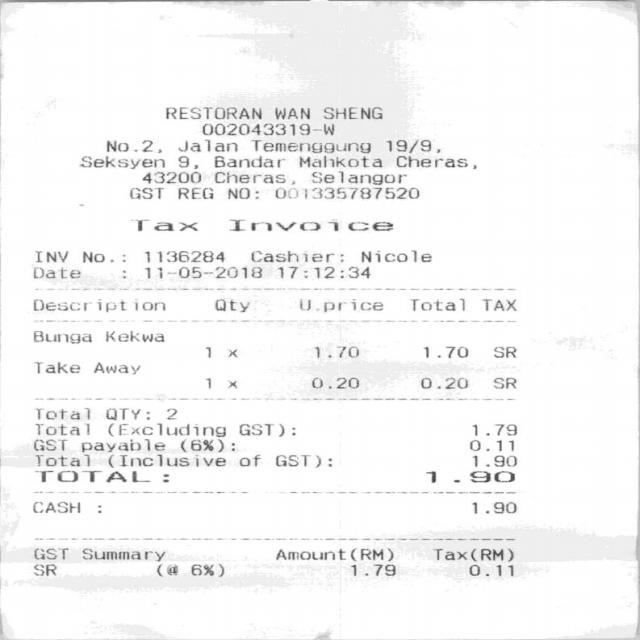text: (230, 219, 392, 231), (32, 298, 167, 312), (108, 422, 225, 437), (108, 453, 225, 468), (273, 186, 418, 198), (141, 266, 262, 280), (250, 139, 369, 153), (34, 469, 152, 483), (200, 123, 333, 135), (311, 170, 405, 185), (276, 266, 374, 279), (297, 298, 384, 312), (78, 155, 163, 169), (81, 438, 164, 452), (165, 107, 260, 119), (250, 250, 342, 262), (424, 470, 514, 482), (430, 548, 513, 561), (213, 171, 294, 184), (395, 154, 469, 168), (297, 155, 381, 167), (81, 548, 165, 560), (143, 250, 223, 262), (361, 249, 430, 262), (274, 548, 344, 560), (214, 155, 283, 167), (177, 138, 236, 152), (178, 438, 234, 452), (321, 106, 381, 119), (140, 171, 200, 184), (105, 139, 160, 153), (385, 139, 439, 153), (133, 219, 196, 231), (409, 298, 467, 311), (105, 329, 163, 342), (33, 331, 90, 344), (238, 423, 294, 436), (274, 454, 330, 467), (34, 454, 89, 466), (35, 407, 88, 419), (35, 423, 88, 435), (420, 377, 470, 389), (31, 501, 80, 513), (313, 345, 358, 358), (94, 361, 138, 374), (469, 438, 512, 451), (308, 377, 358, 388), (211, 298, 249, 312), (34, 361, 78, 373), (472, 423, 516, 435), (472, 454, 516, 466), (471, 501, 515, 513), (350, 564, 394, 576), (468, 564, 512, 576), (423, 346, 466, 358), (105, 408, 148, 420), (33, 267, 79, 278), (354, 548, 392, 561), (33, 546, 68, 560), (82, 251, 125, 262), (33, 438, 66, 451), (274, 107, 308, 119), (177, 186, 211, 198), (189, 564, 223, 576), (129, 186, 162, 198), (482, 298, 515, 310), (204, 346, 236, 358), (226, 186, 257, 198), (35, 250, 66, 262), (204, 377, 236, 388), (176, 155, 197, 169), (493, 377, 515, 390), (32, 564, 55, 576), (493, 346, 515, 358), (238, 454, 259, 466), (156, 564, 176, 576), (165, 408, 176, 419)
